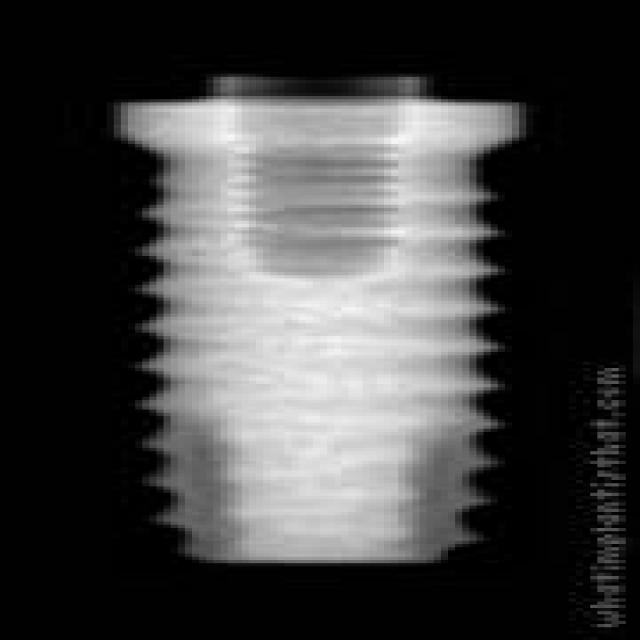Osstem Implant: (114, 93, 526, 570)
